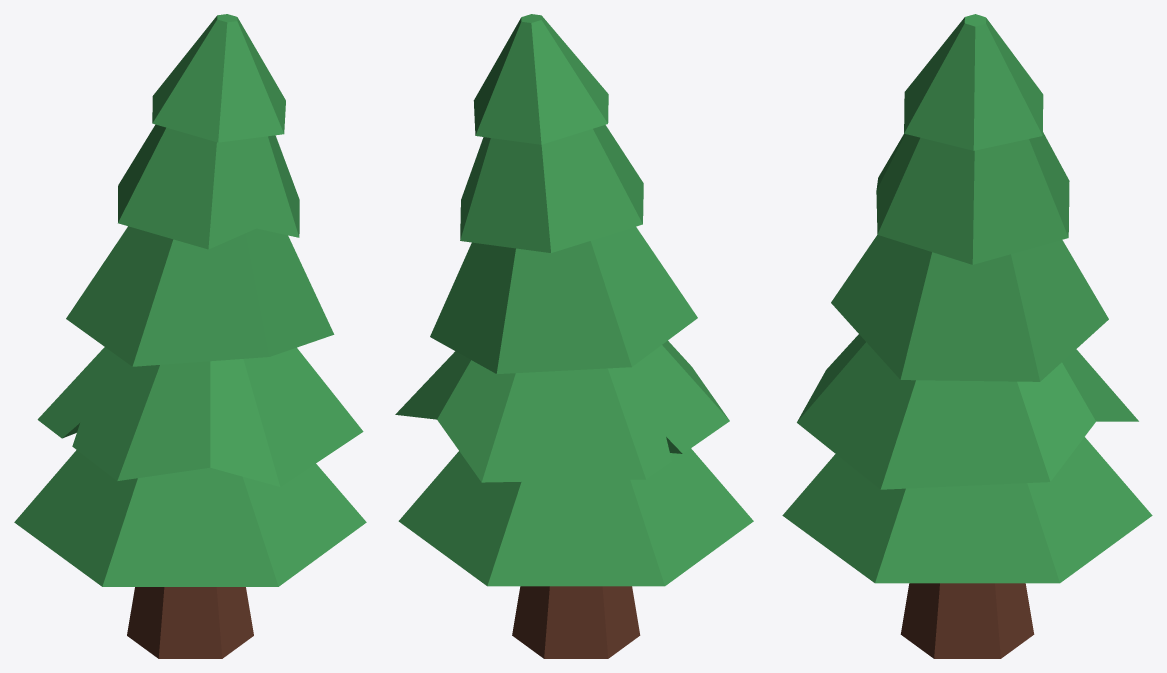
Rendered from treeA.fbx.
3 renders of one model, left to right at view 1: azimuth 30°, elevation 25°; view 2: azimuth 150°, elevation 25°; view 3: azimuth 270°, elevation 25°, orthographic. The views are drawn at different scales.
Visible parts, largest first — view 1: Cylinder.001, Cylinder.002, Cylinder.003, Cylinder.004, Cylinder.005, Cylinder; view 2: Cylinder.001, Cylinder.002, Cylinder.003, Cylinder.004, Cylinder.005, Cylinder; view 3: Cylinder.001, Cylinder.002, Cylinder.003, Cylinder.004, Cylinder.005, Cylinder.
Part boxes in pixels (<box>): Cylinder.001: <box>14,450,366,586</box>; Cylinder.002: <box>37,347,363,486</box>; Cylinder.003: <box>66,226,334,366</box>; Cylinder.004: <box>118,124,299,249</box>; Cylinder.005: <box>152,14,285,142</box>; Cylinder: <box>127,587,253,658</box>; Cylinder.001: <box>398,448,753,586</box>; Cylinder.002: <box>395,340,729,482</box>; Cylinder.003: <box>430,226,697,373</box>; Cylinder.004: <box>460,125,643,252</box>; Cylinder.005: <box>473,14,608,144</box>; Cylinder: <box>512,586,640,658</box>; Cylinder.001: <box>782,437,1152,583</box>; Cylinder.002: <box>797,334,1138,489</box>; Cylinder.003: <box>831,235,1108,381</box>; Cylinder.004: <box>876,132,1069,264</box>; Cylinder.005: <box>904,14,1043,150</box>; Cylinder: <box>900,583,1034,658</box>.
Bounding box in the file's own units: 1.26 × 2.68 × 1.41.
